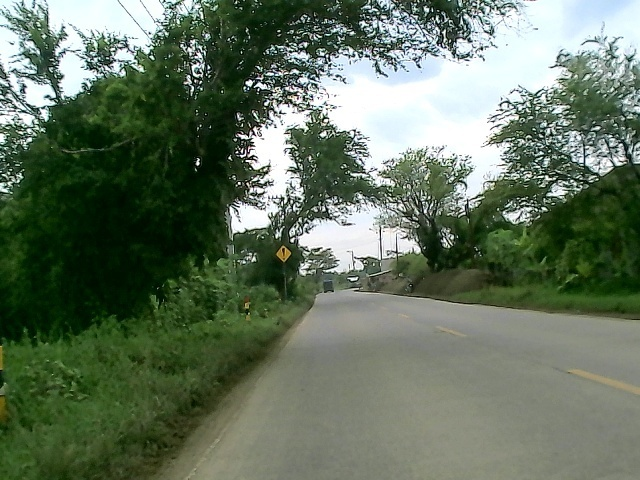Hati-hati: (274, 246, 292, 266)
